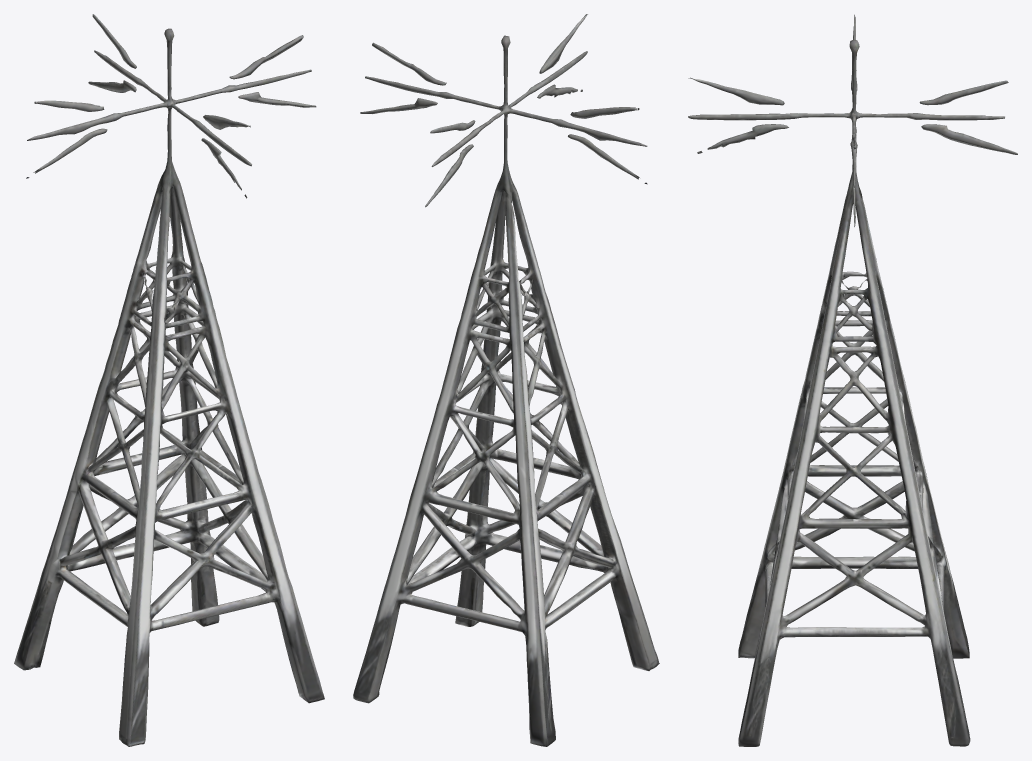
File: Radio_Tower_Illustrat_0220231543_texture.obj
3 views of the same model, side by side, from view 1: azimuth 30°, elevation 25°; view 2: azimuth 150°, elevation 25°; view 3: azimuth 270°, elevation 25° (orthographic).
Parts seen in each view (by area): view 1: Radio_Tower_Illustrat_0220231543_texture; view 2: Radio_Tower_Illustrat_0220231543_texture; view 3: Radio_Tower_Illustrat_0220231543_texture.
Boxes of the visible parts, x1,y1,x2,y2 form: Radio_Tower_Illustrat_0220231543_texture: (14,14,324,746); Radio_Tower_Illustrat_0220231543_texture: (353,14,659,746); Radio_Tower_Illustrat_0220231543_texture: (688,14,1017,746).
Size of the model in its own units: 0.9303 by 2 by 0.9071.
1 material, 1 textured.
